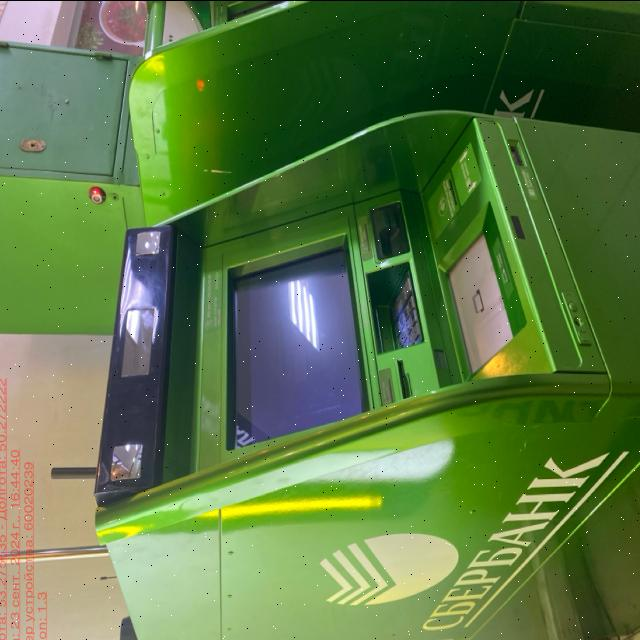bank: (94, 109, 640, 640), (127, 0, 640, 239)
